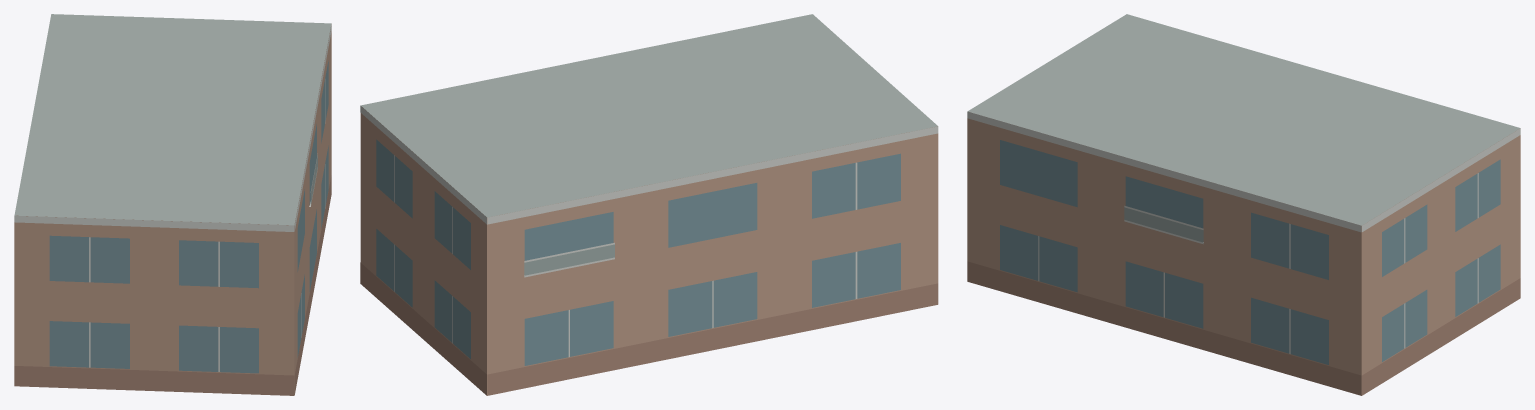
The model's file is survey-upis-32699844.glb.
3 renders of one model, left to right at view 1: azimuth 30°, elevation 25°; view 2: azimuth 150°, elevation 25°; view 3: azimuth 270°, elevation 25°, orthographic. The views are drawn at different scales.
Parts seen in each view (by area): view 1: survey-upis-32699844.tmp; view 2: survey-upis-32699844.tmp; view 3: survey-upis-32699844.tmp.
Part boxes in pixels (bbox=[...]): survey-upis-32699844.tmp: bbox=[14, 14, 331, 395]; survey-upis-32699844.tmp: bbox=[360, 14, 938, 395]; survey-upis-32699844.tmp: bbox=[967, 14, 1520, 395].
Bounding box in the file's own units: 16.29 × 6.1 × 17.99.
